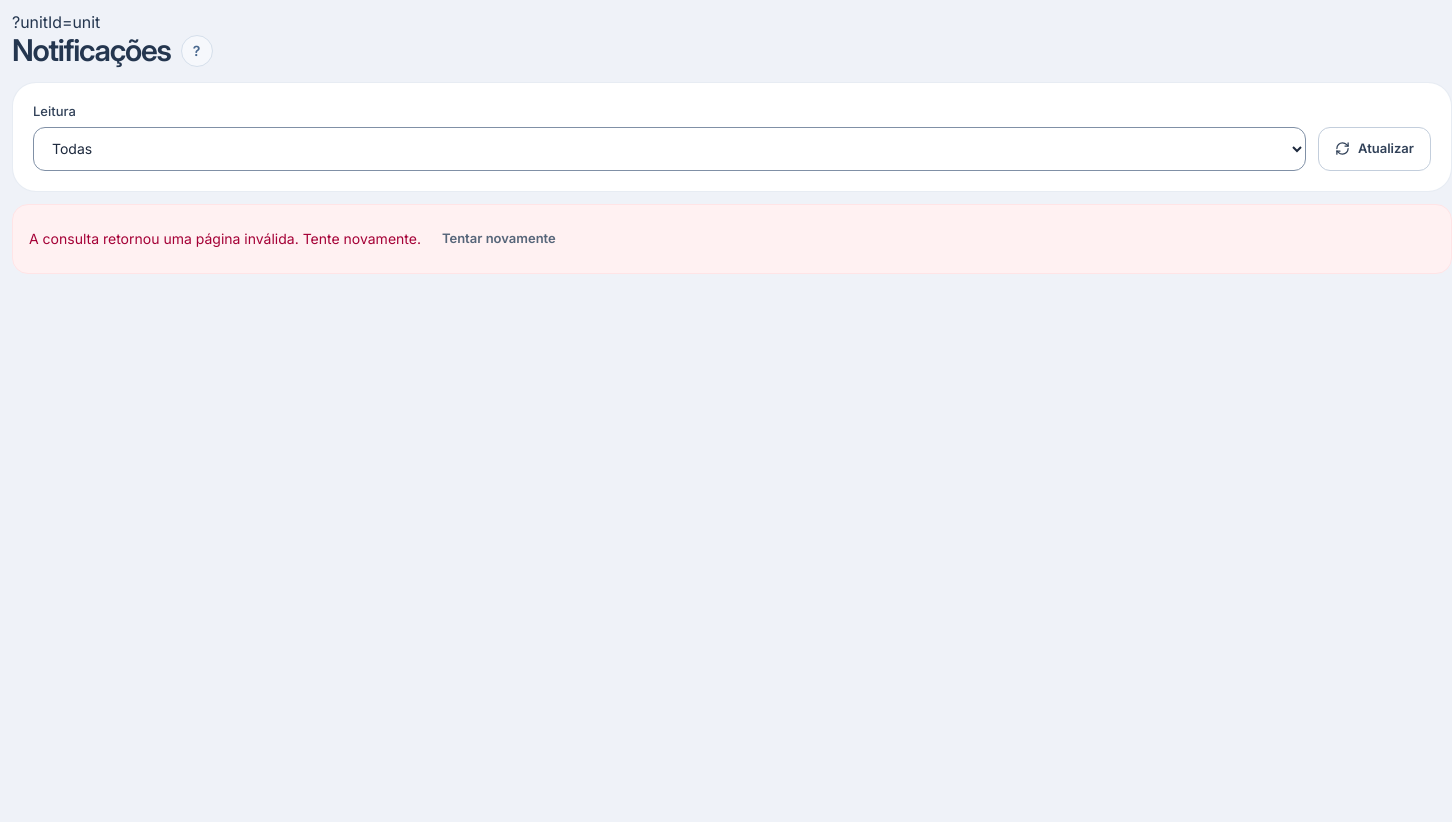
Test: cache verificado antes de exibir notificações › bloqueia lista corrompida fresca sem consultar e recupera somente após nova tentativa
Expected: the text "A consulta retornou uma página inválida. Tente novamente." is shown, [29,229,421,246]
Expected: the text "Aviso validado" is not shown
What coordinates should you click on to do the following:
click the button "Tentar novamente"
I would click on:
 (499, 238)
Its box is [425,216,573,260].
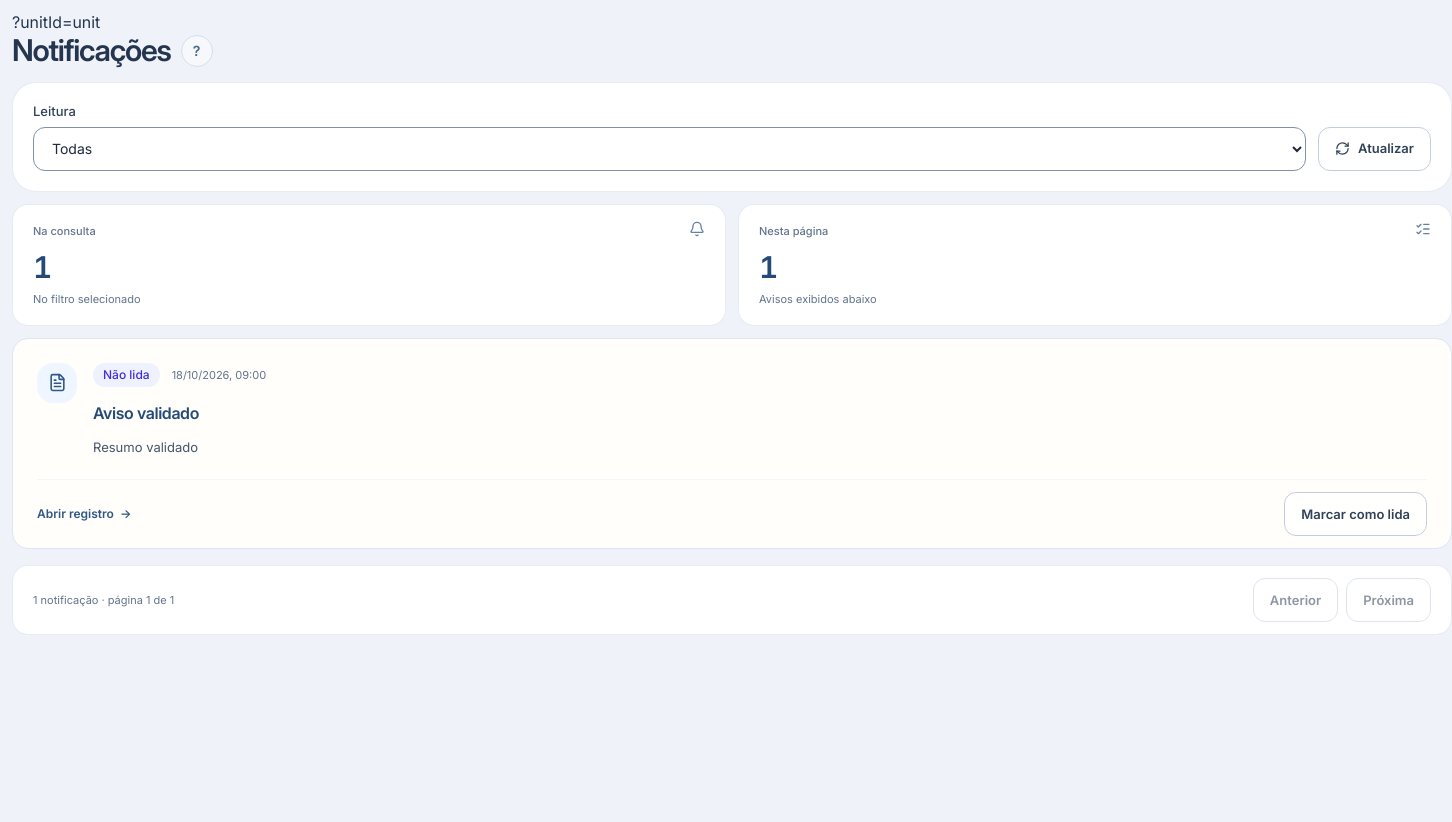
Expected: the element "Aviso validado" is shown, [12,338,1451,549]
